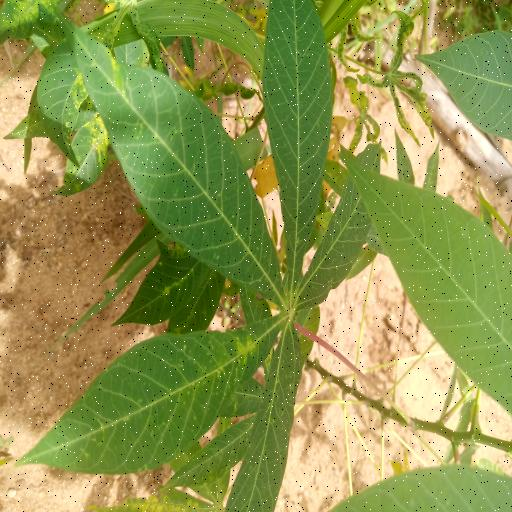Cassava_Mosaic: (10, 0, 384, 512)
